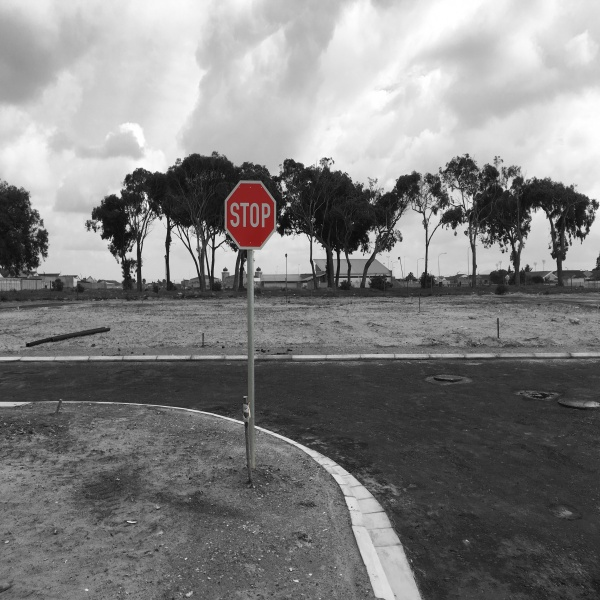stop: (225, 183, 274, 246)
